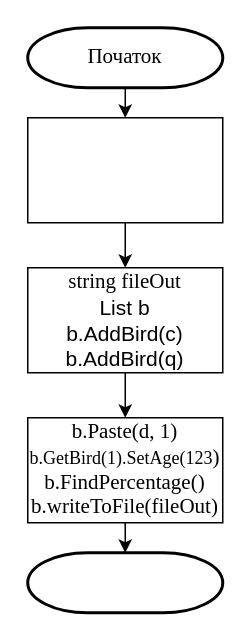
This 249x639 diagram has some shape labels left out. Each missing label, with the box of its shape:
Layer_Birds* c Layer_Birds* q Exotic_birds* d c->SetAge(10): (26, 116, 223, 223)
Кінець: (26, 550, 224, 614)
